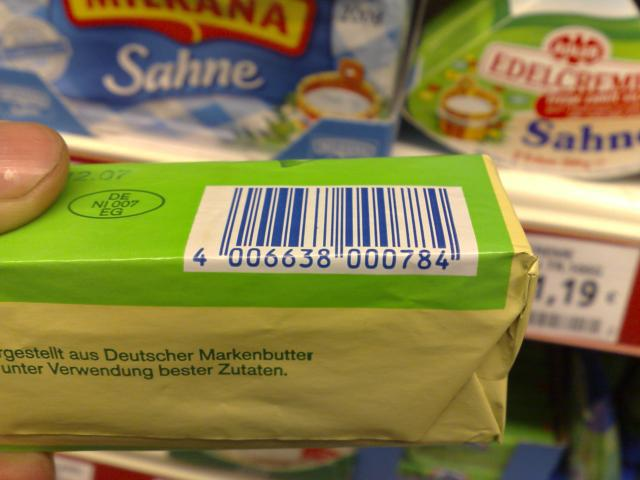Barkod: (219, 186, 459, 250)
